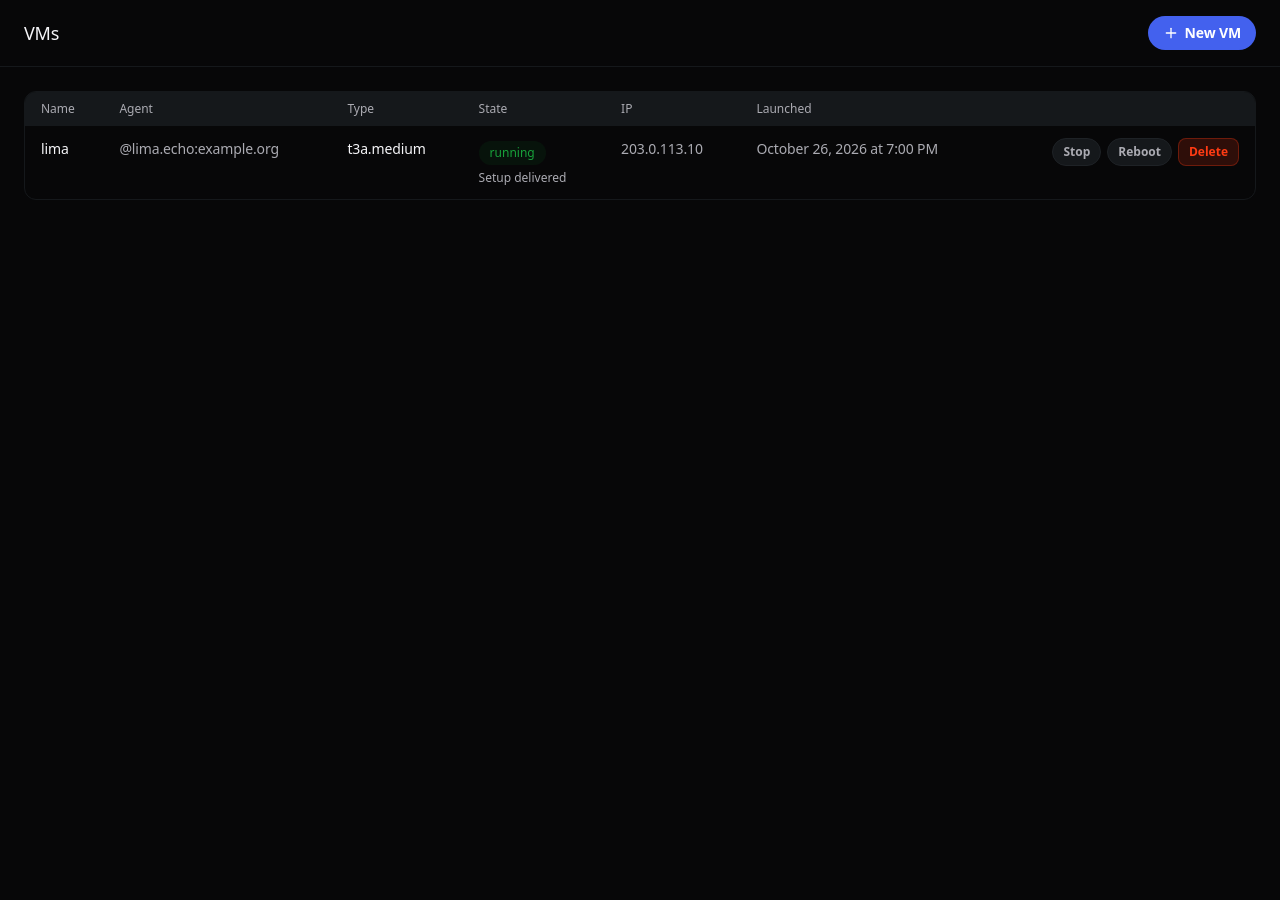
Scenario: <VmRoute> › asks before deleting a VM
Click the button with aria-label "Delete lima" at x=1208, y=152, box [1178,138,1239,166]
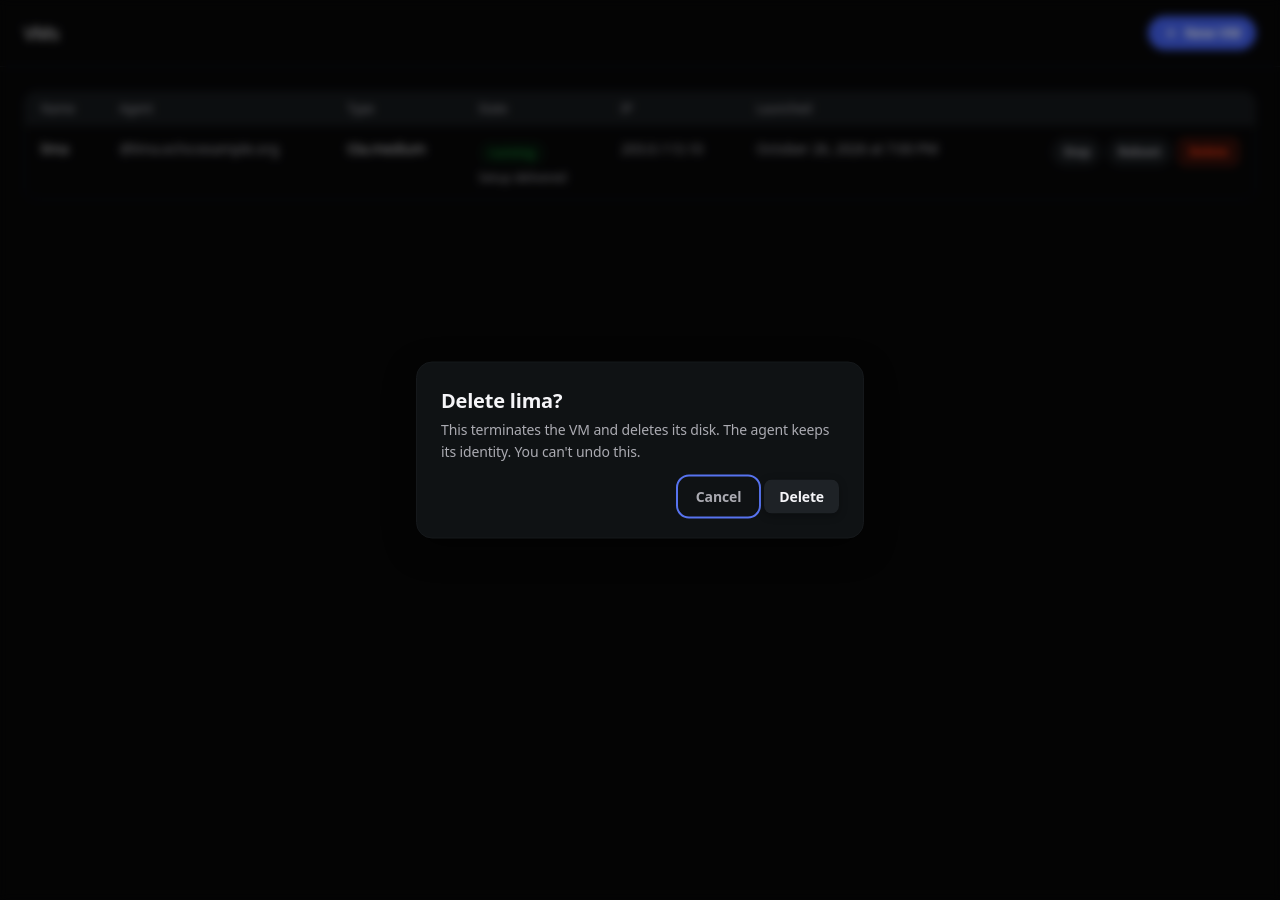
Click the button "Cancel" at x=719, y=496, box [681,480,756,514]
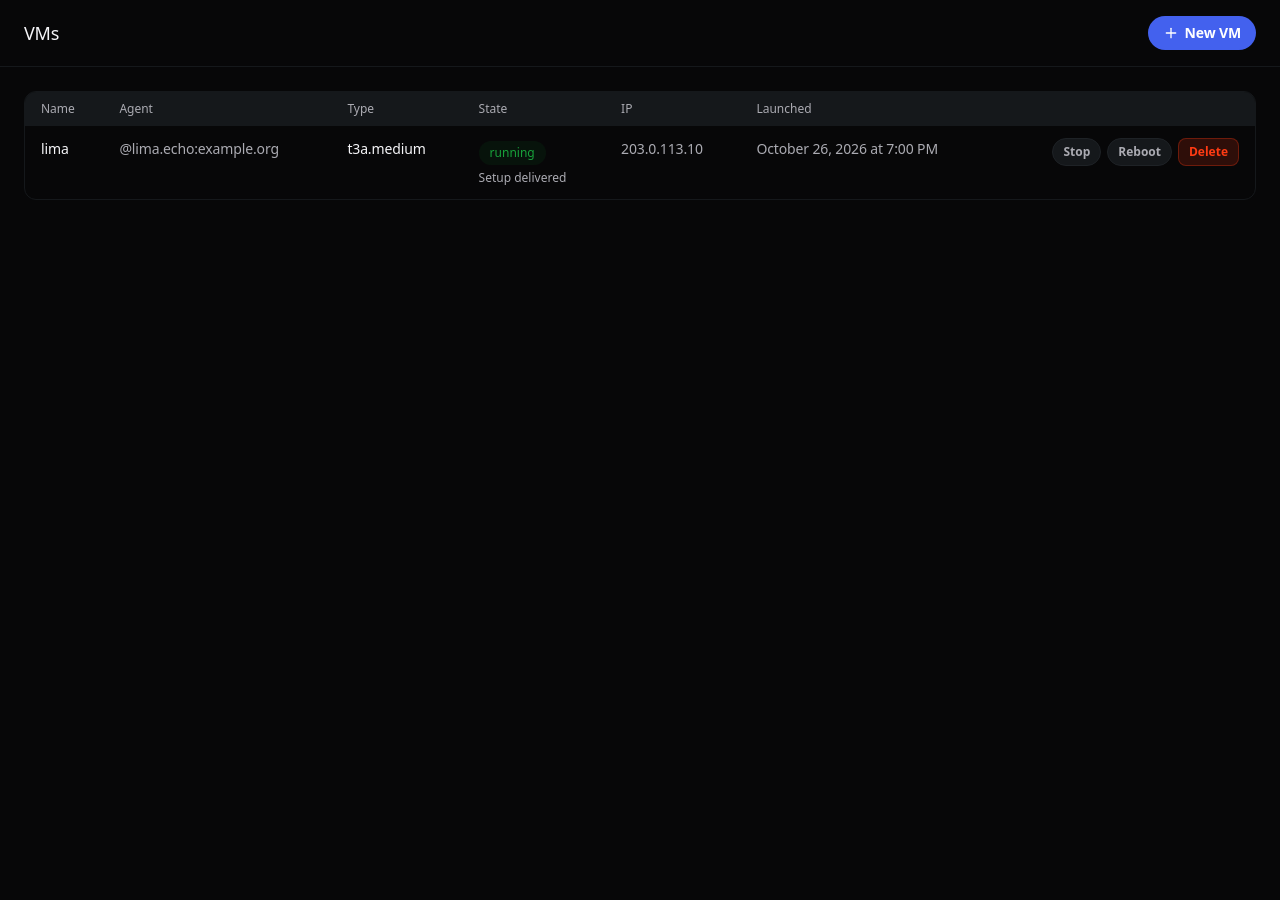
Expected: the dialog is gone
Click the button with aria-label "Delete lima" at x=1208, y=152, box [1178,138,1239,166]
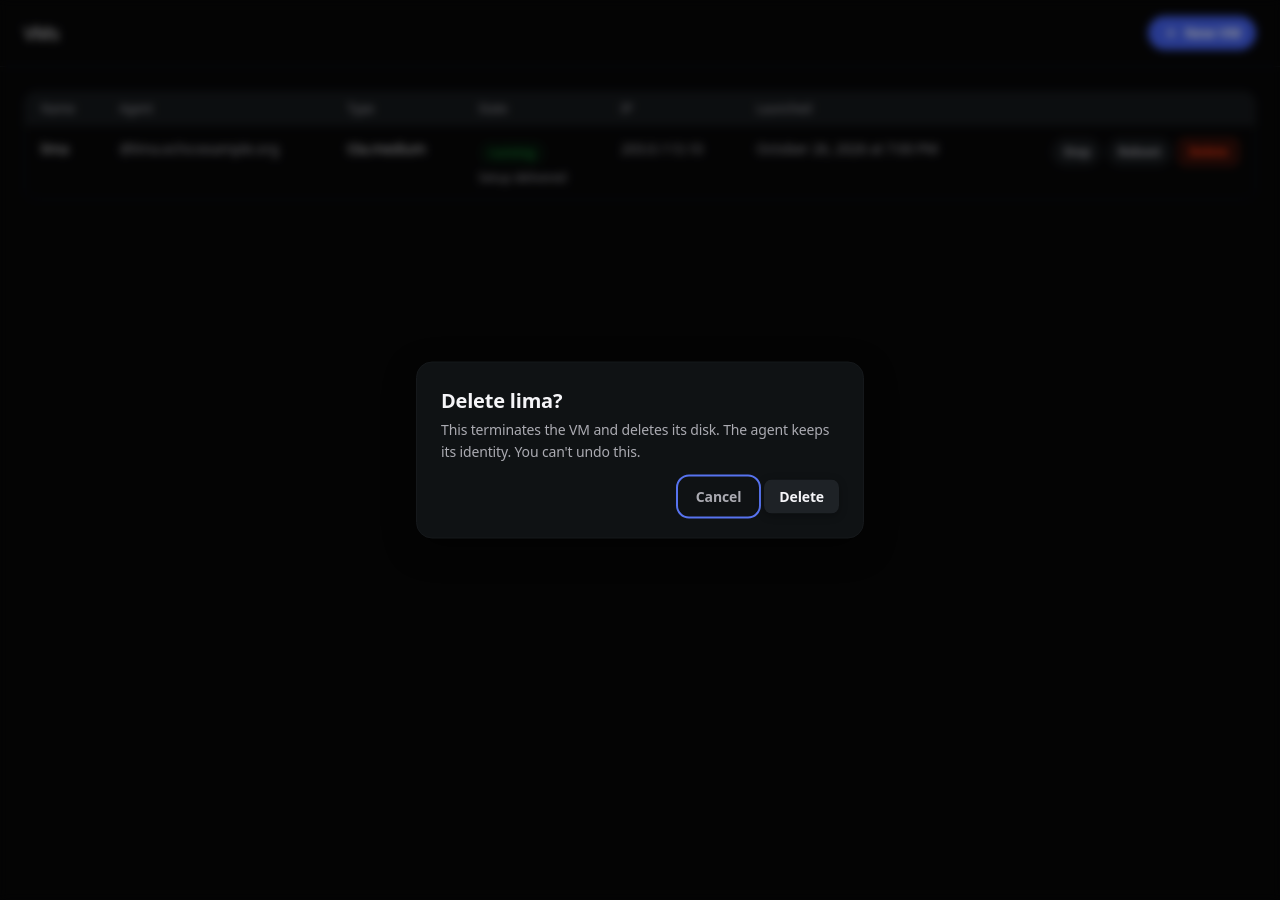
Click the button "Delete" at x=802, y=496, box [764,480,839,514]
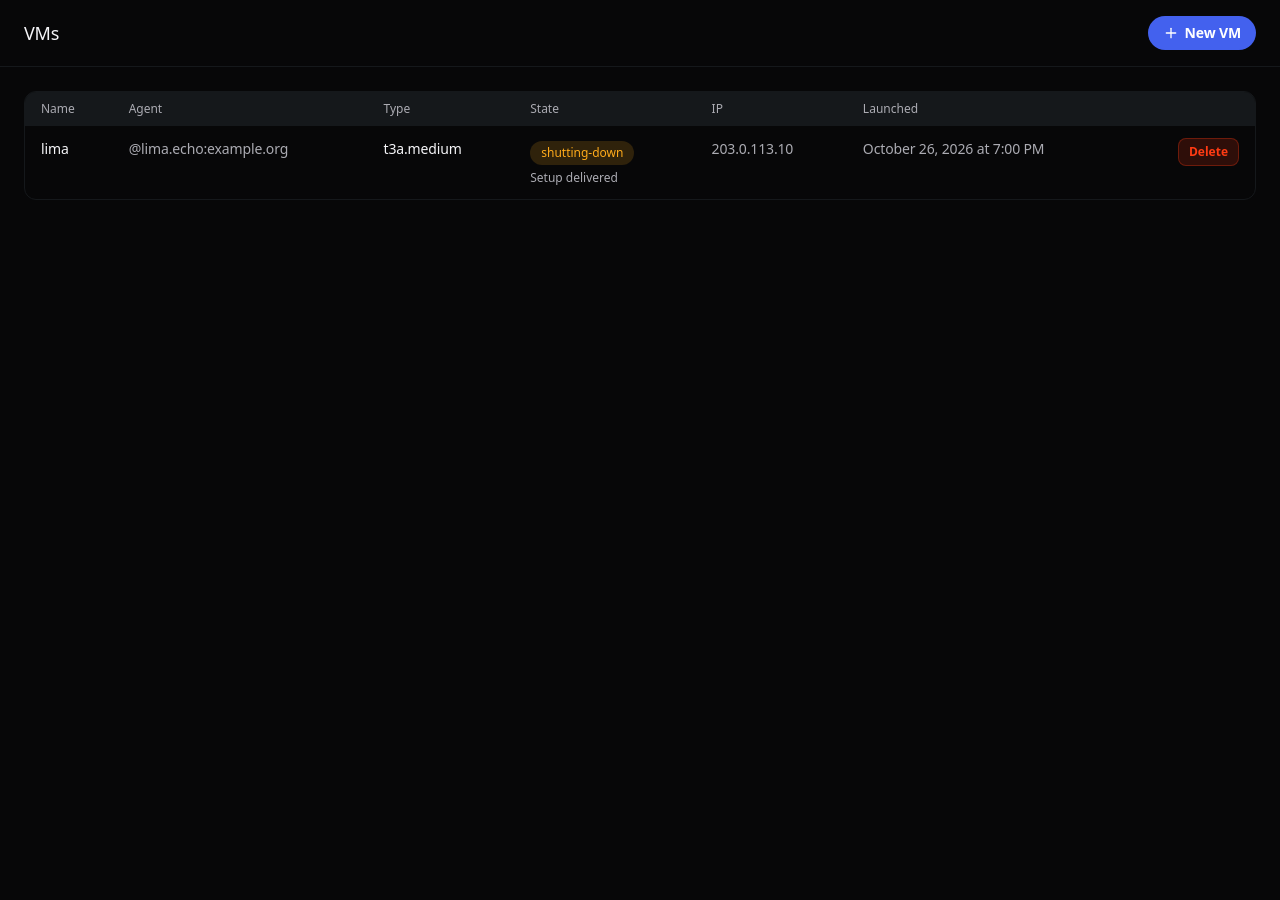
Expected: the text "shutting-down" is shown, [530,141,634,165]
